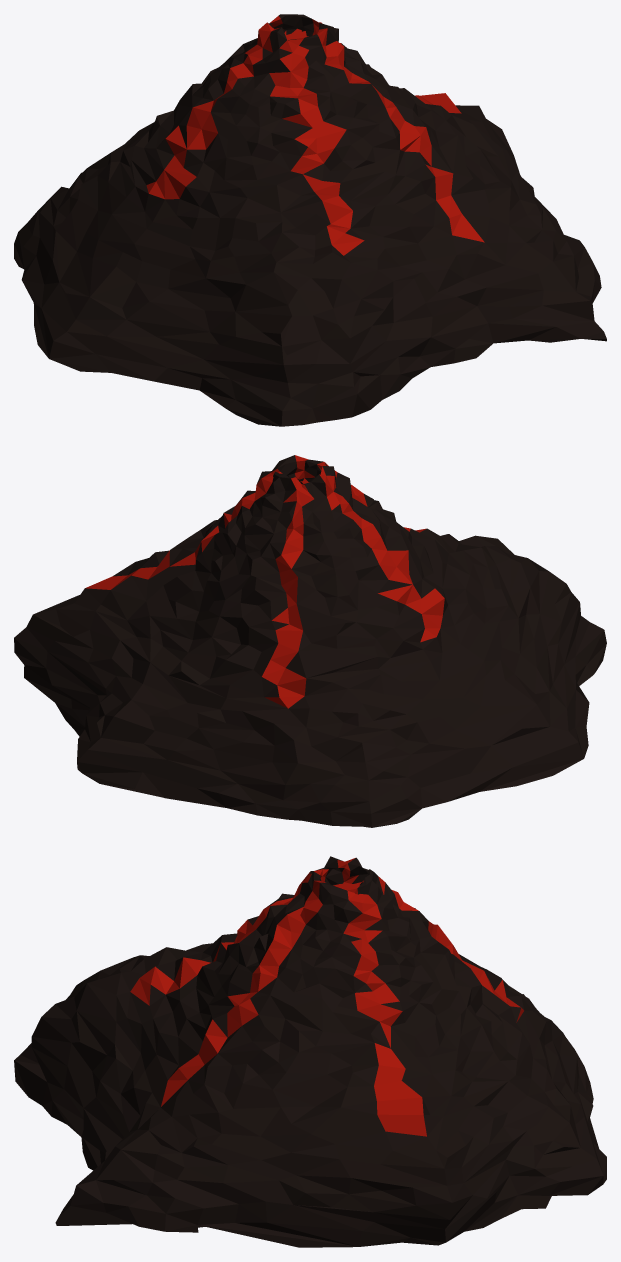
File: volcano.obj
3 renders of one model, top to bottom at view 1: azimuth 30°, elevation 25°; view 2: azimuth 150°, elevation 25°; view 3: azimuth 270°, elevation 25°, orthographic. The views are drawn at different scales.
Visible parts, largest first — view 1: Cylinder; view 2: Cylinder; view 3: Cylinder.
Part boxes in pixels (x1,y1,x2,y2): Cylinder: [14, 14, 606, 426]; Cylinder: [14, 455, 606, 827]; Cylinder: [14, 856, 606, 1247].
Bounding box in the file's own units: 2.57 × 1.25 × 2.47.
